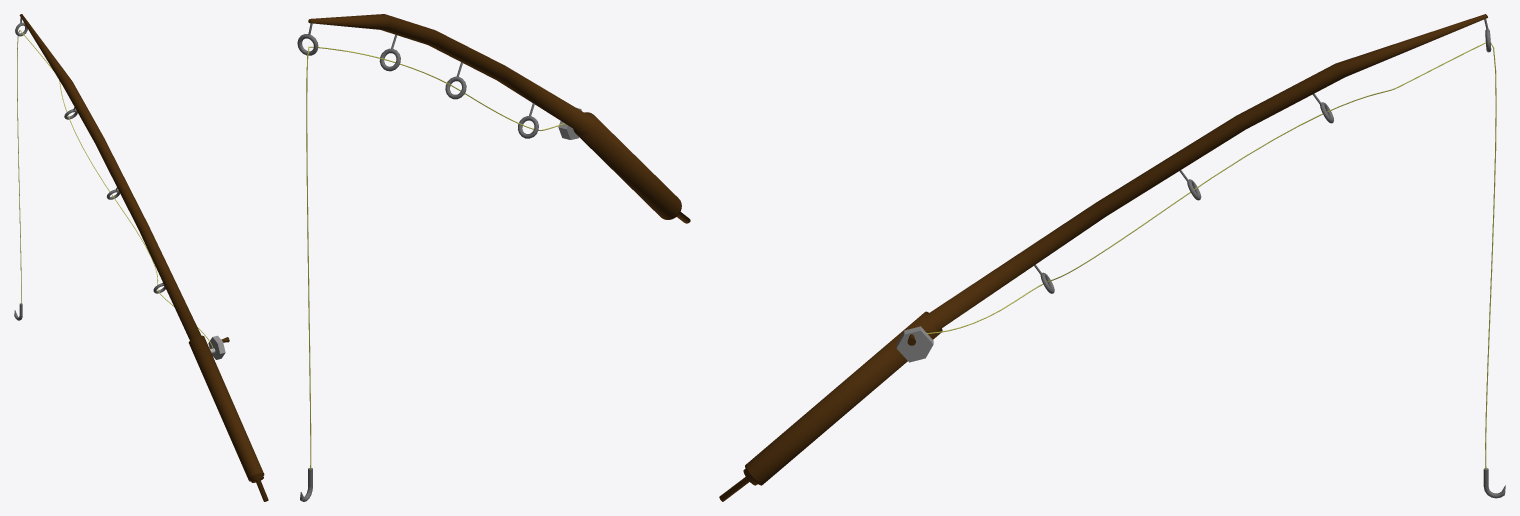
Rendered from Fishing_Rod_Fertig.fbx.
The picture shows the model from 3 angles, left to right: view 1: azimuth 30°, elevation 25°; view 2: azimuth 150°, elevation 25°; view 3: azimuth 270°, elevation 25°; orthographic projection. The views are drawn at different scales.
Visible parts, largest first — view 1: Angel; view 2: Angel; view 3: Angel.
Part boxes in pixels (bbox=[...]): Angel: bbox=[14, 14, 268, 501]; Angel: bbox=[297, 14, 690, 501]; Angel: bbox=[719, 14, 1505, 501].
Bounding box in the file's own units: 6.94 × 64.27 × 94.22.
Materials: 1 (1 with a texture image).
